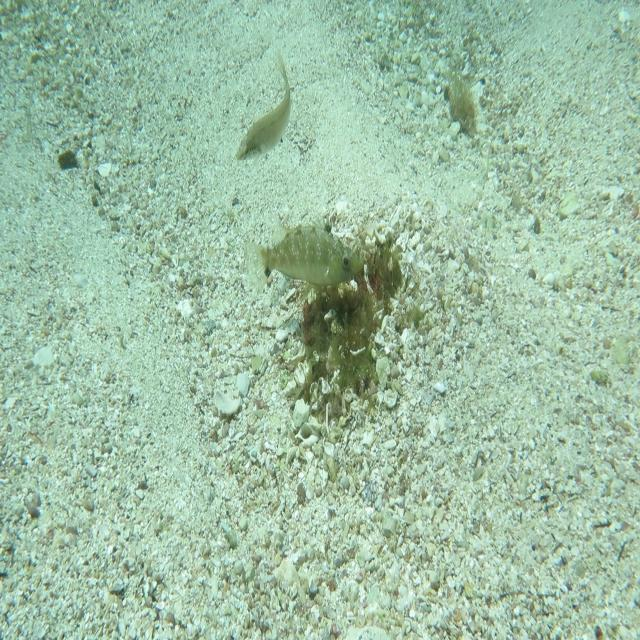FAN: (243, 212, 365, 294)
core_nest: (350, 252, 390, 291)
female: (234, 49, 292, 164)
nest: (287, 214, 416, 427)
vegetation: (446, 71, 479, 142), (57, 146, 79, 170)
